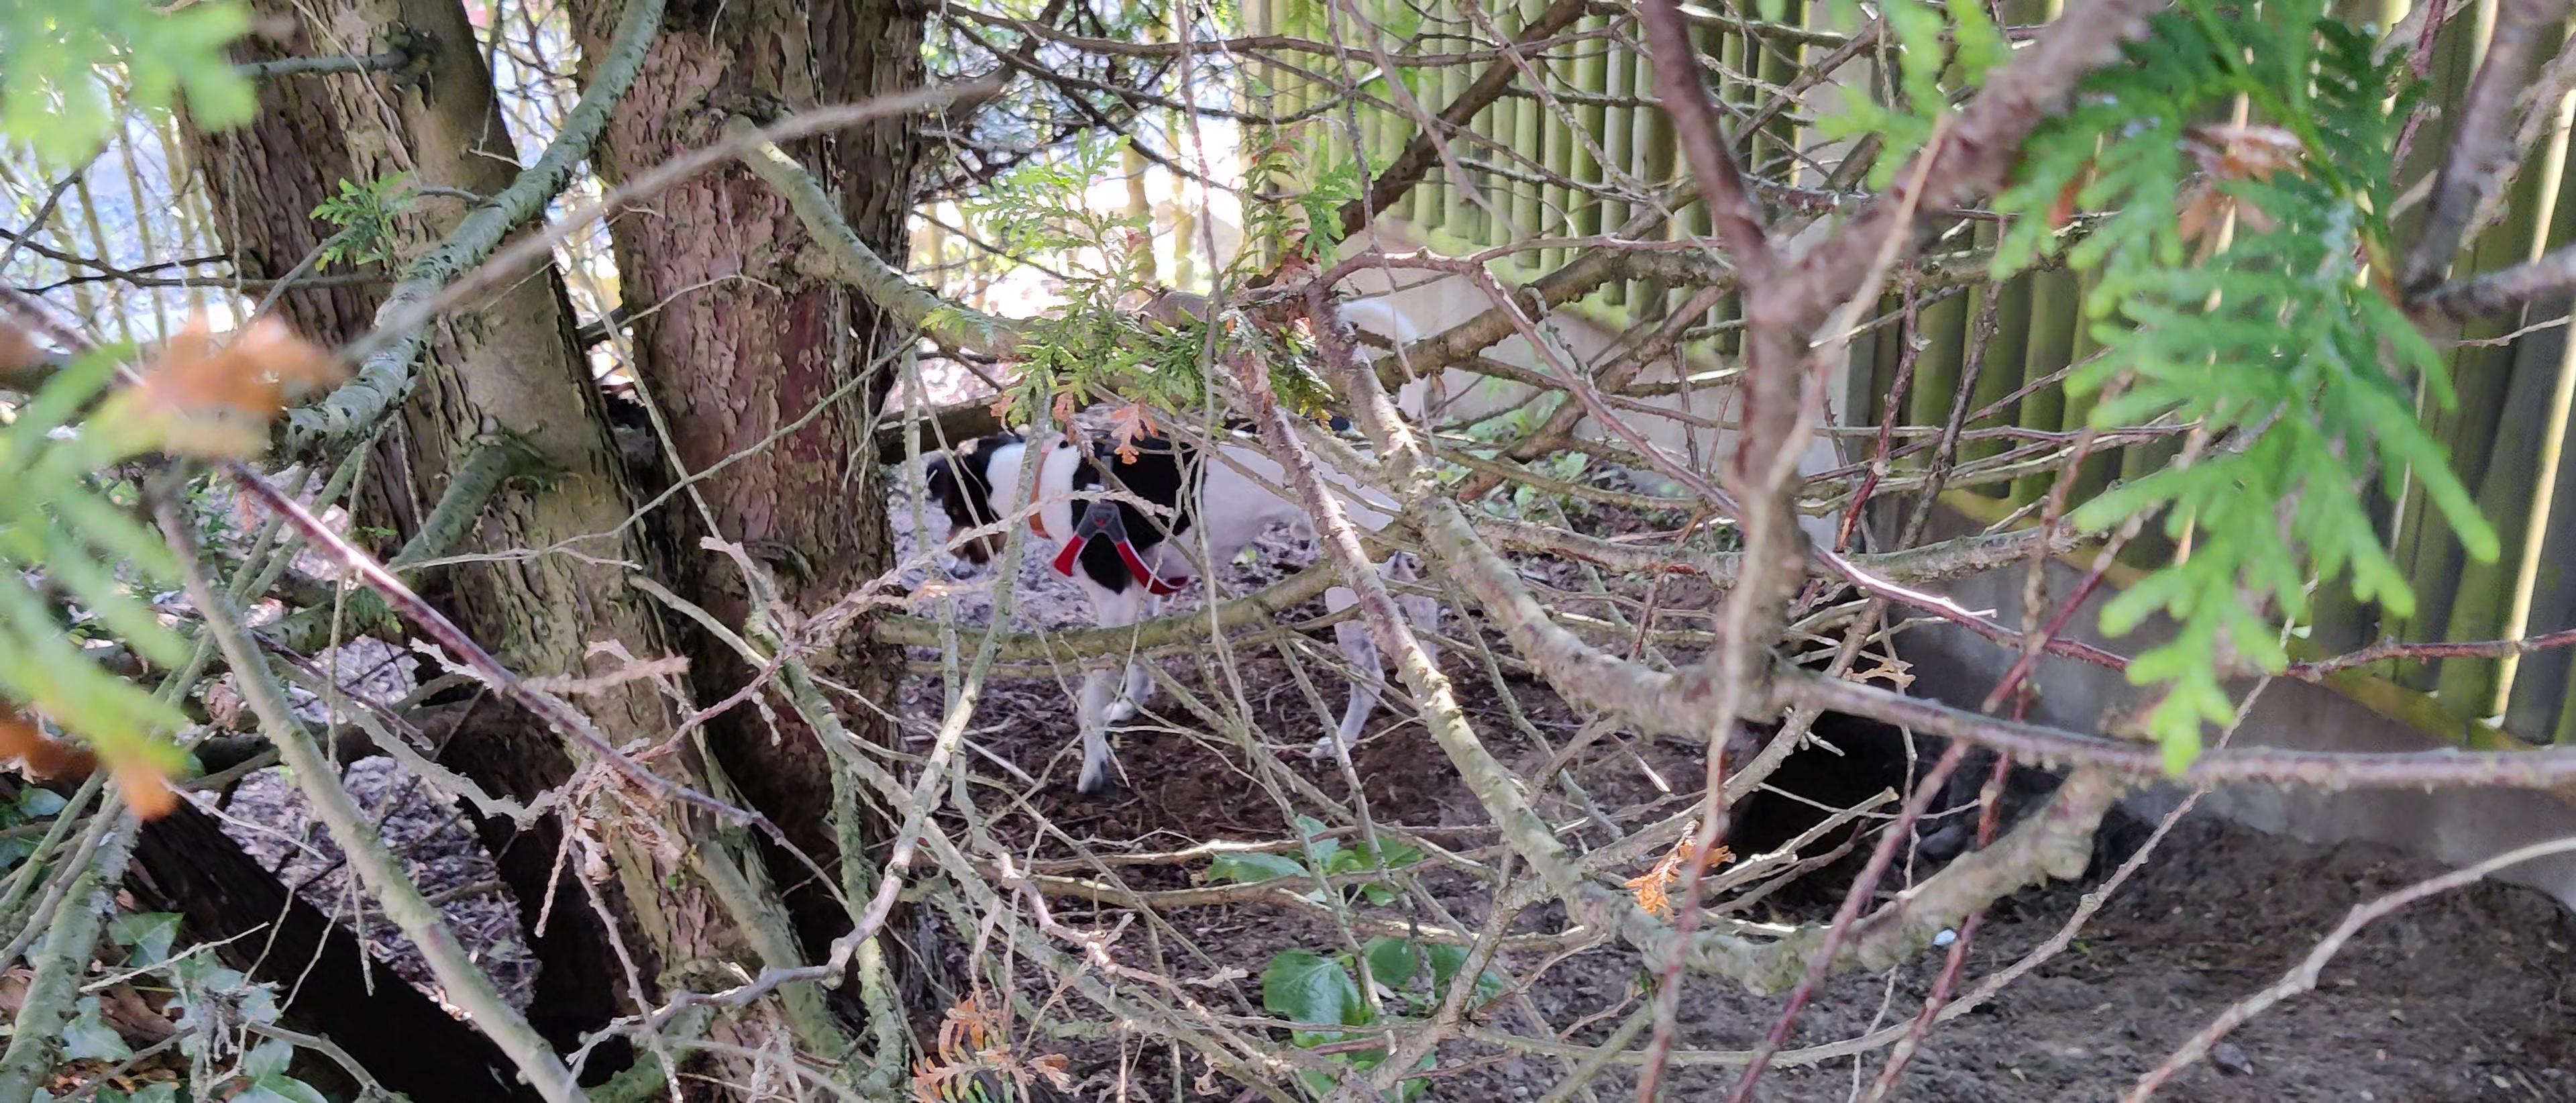Dog: (912, 291, 1431, 802)
